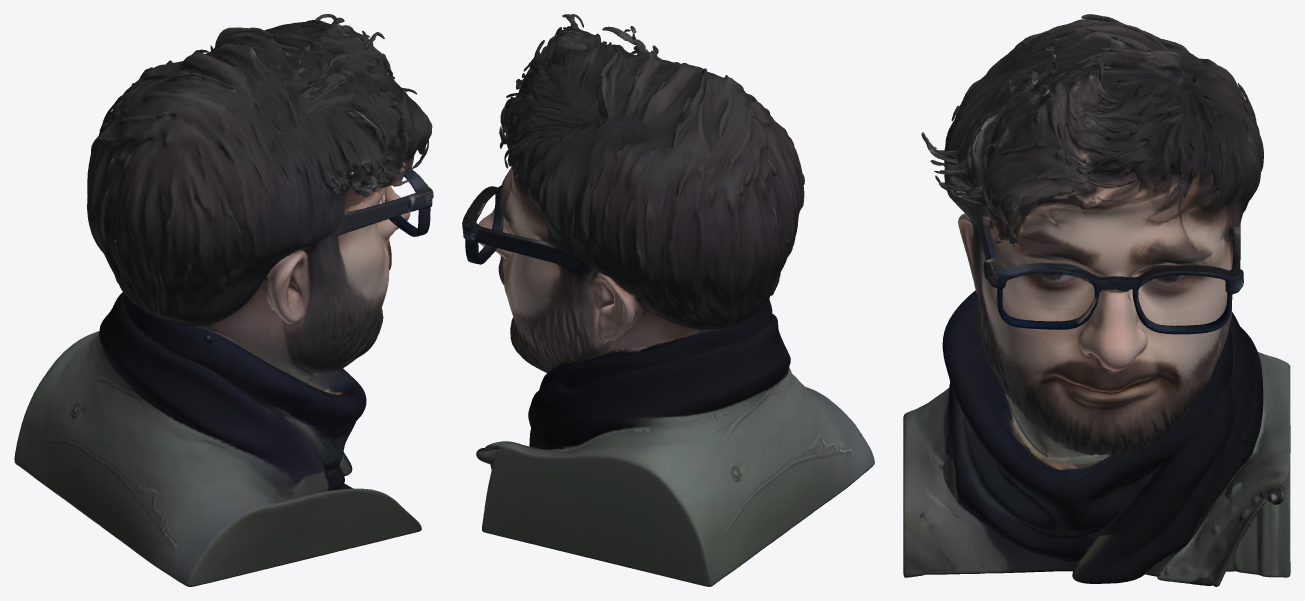
3 renders of one model, left to right at view 1: azimuth 30°, elevation 25°; view 2: azimuth 150°, elevation 25°; view 3: azimuth 270°, elevation 25°, orthographic. The views are drawn at different scales.
Visible parts, largest first — view 1: tripo_node_9bb122a7-a900-4852-a196-a04d094ae7d3; view 2: tripo_node_9bb122a7-a900-4852-a196-a04d094ae7d3; view 3: tripo_node_9bb122a7-a900-4852-a196-a04d094ae7d3.
Boxes of the visible parts, x1=… form: tripo_node_9bb122a7-a900-4852-a196-a04d094ae7d3: x1=14, y1=14, x2=433, y2=586; tripo_node_9bb122a7-a900-4852-a196-a04d094ae7d3: x1=462, y1=14, x2=874, y2=586; tripo_node_9bb122a7-a900-4852-a196-a04d094ae7d3: x1=903, y1=14, x2=1290, y2=586.
Bounding box in the file's own units: 0.7294 × 1 × 0.6878.
Materials: 1 (1 with a texture image).
